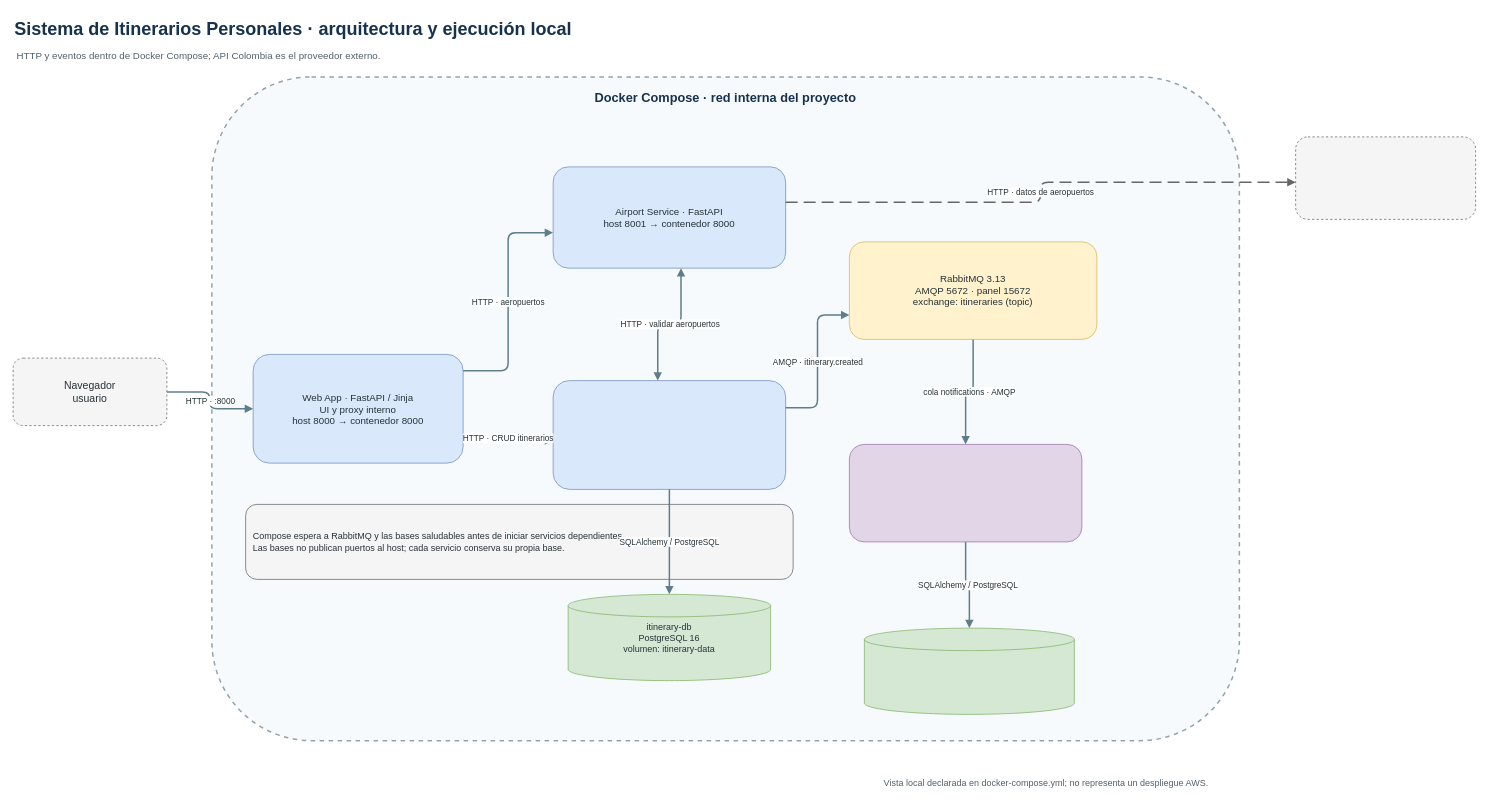
Some shapes in this 1489 by 810 pixel diagram are drawn without their labels. Each missing label, with the centre of its shape:
API Colombia proveedor HTTP externo: pixel 1385 177
Itinerary Service · FastAPI host 8002 → contenedor 8000: pixel 669 434
Notification Service consumidor de eventos: pixel 965 493
notification-db PostgreSQL 16 volumen: notification-data: pixel 969 670
